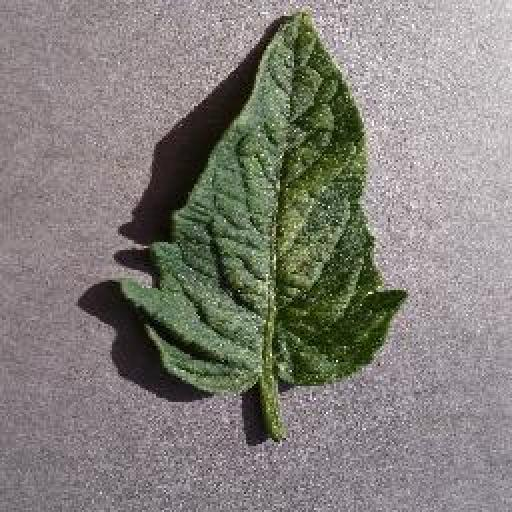disease_tomato: (120, 12, 409, 393)
